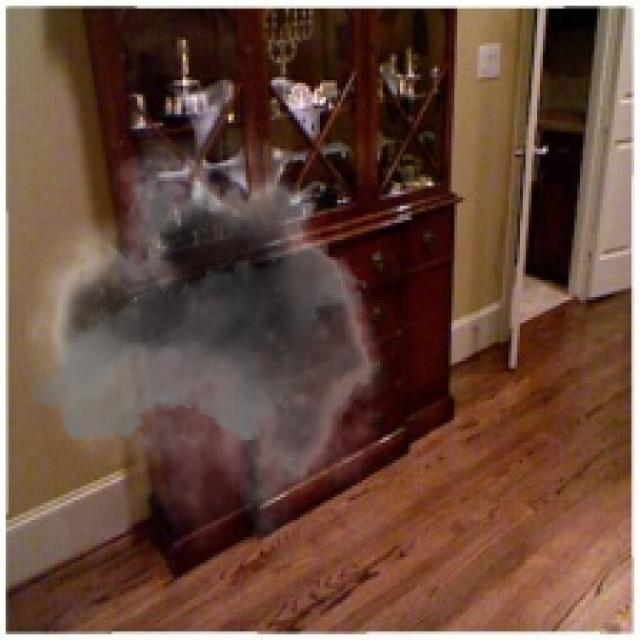smoke: (26, 134, 400, 552)
